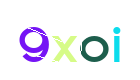9: (0, 0, 80, 80)
I: (59, 0, 139, 80)
O: (54, 0, 134, 80)
X: (29, 0, 109, 80)
